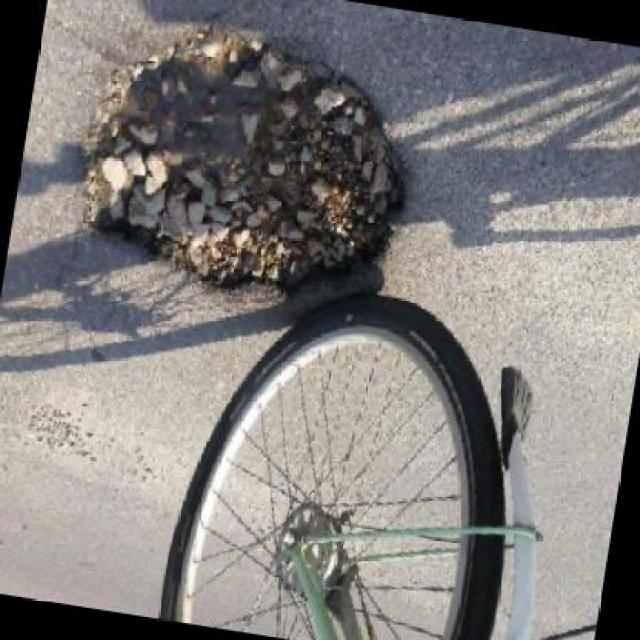pothole1: (64, 12, 431, 325)
